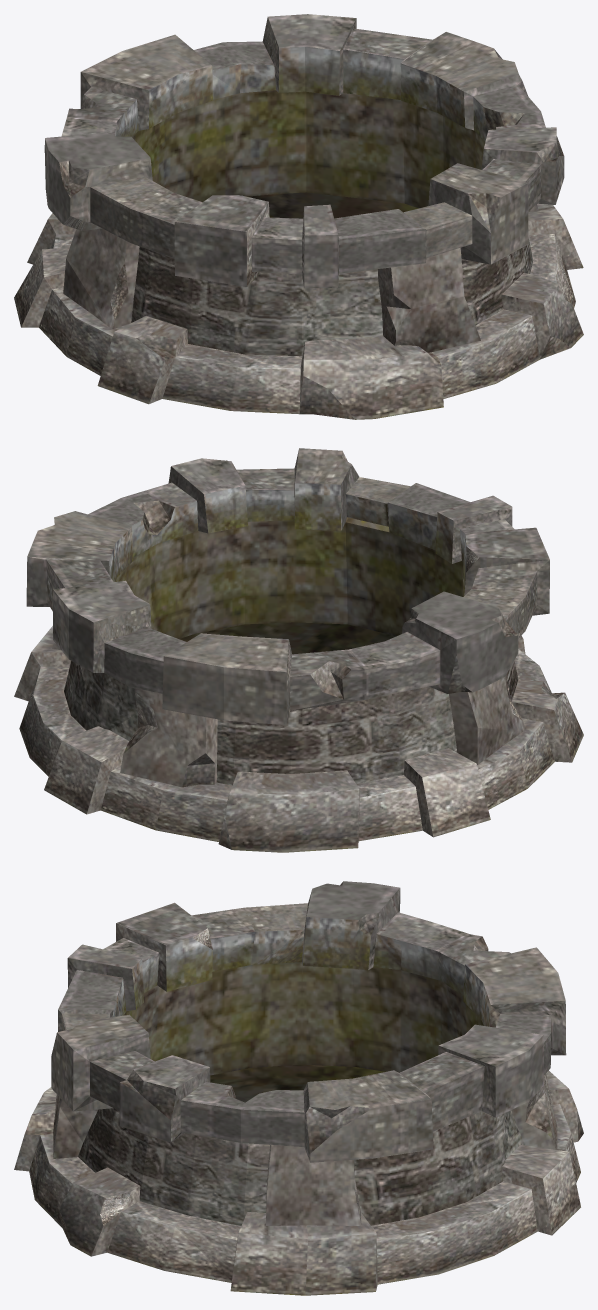
Rendered from bg_anh_etc_wl02_01_sm_old.FBX.
3 renders of one model, top to bottom at view 1: azimuth 30°, elevation 25°; view 2: azimuth 150°, elevation 25°; view 3: azimuth 270°, elevation 25°, orthographic.
Visible parts, largest first — view 1: bg_anh_etc_wl02_01_sm_old; view 2: bg_anh_etc_wl02_01_sm_old; view 3: bg_anh_etc_wl02_01_sm_old.
Part boxes in pixels (x1,y1,x2,y2): bg_anh_etc_wl02_01_sm_old: [14, 14, 583, 419]; bg_anh_etc_wl02_01_sm_old: [14, 448, 583, 852]; bg_anh_etc_wl02_01_sm_old: [14, 881, 583, 1295].
Bounding box in the file's own units: 231 × 79.98 × 228.
